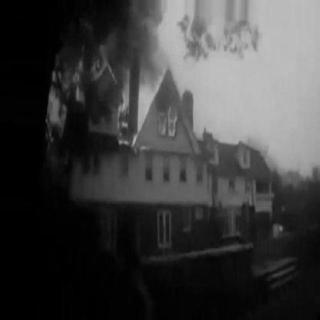Fire: (72, 49, 174, 151)
